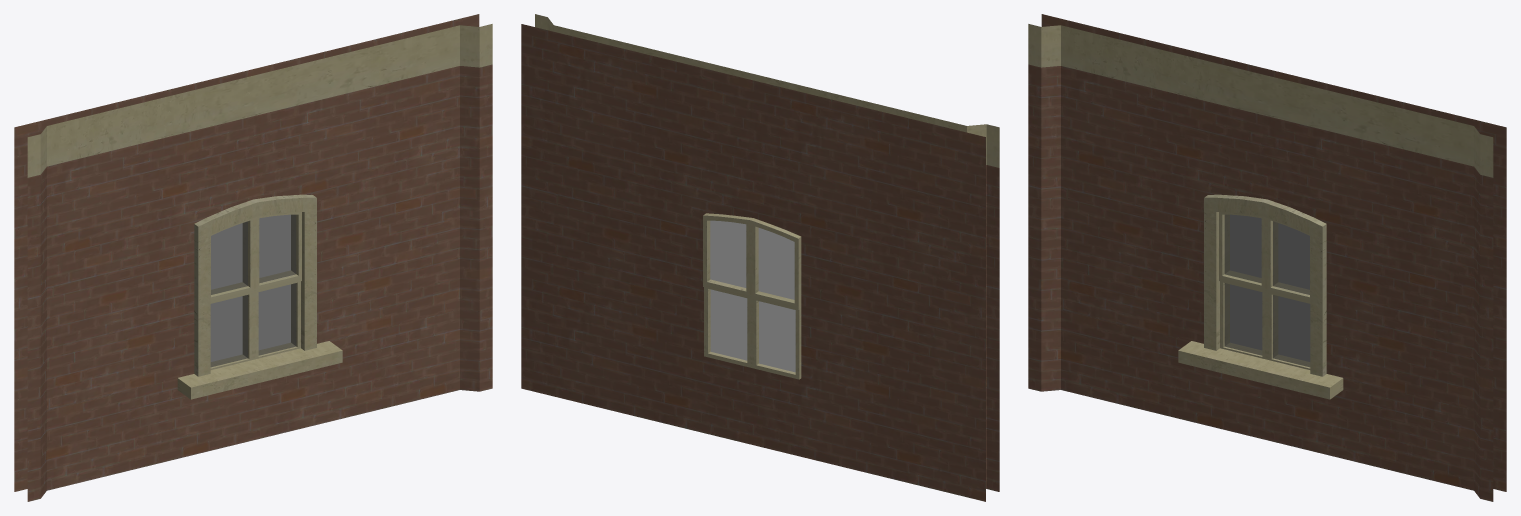
Rendered from Brick_Inset_Window_Curved_Small.glb.
3 views of the same model, side by side, from view 1: azimuth 30°, elevation 25°; view 2: azimuth 150°, elevation 25°; view 3: azimuth 330°, elevation 25° (orthographic).
Visible parts, largest first — view 1: Brick_Inset_Window_Curved_Small; view 2: Brick_Inset_Window_Curved_Small; view 3: Brick_Inset_Window_Curved_Small.
Part boxes in pixels (left/top/right/bottom): Brick_Inset_Window_Curved_Small: left=14, top=14, right=492, bottom=501; Brick_Inset_Window_Curved_Small: left=521, top=14, right=999, bottom=501; Brick_Inset_Window_Curved_Small: left=1028, top=14, right=1506, bottom=501.
Bounding box in the file's own units: 4 × 3 × 0.3426.
4 materials, 2 textured.
